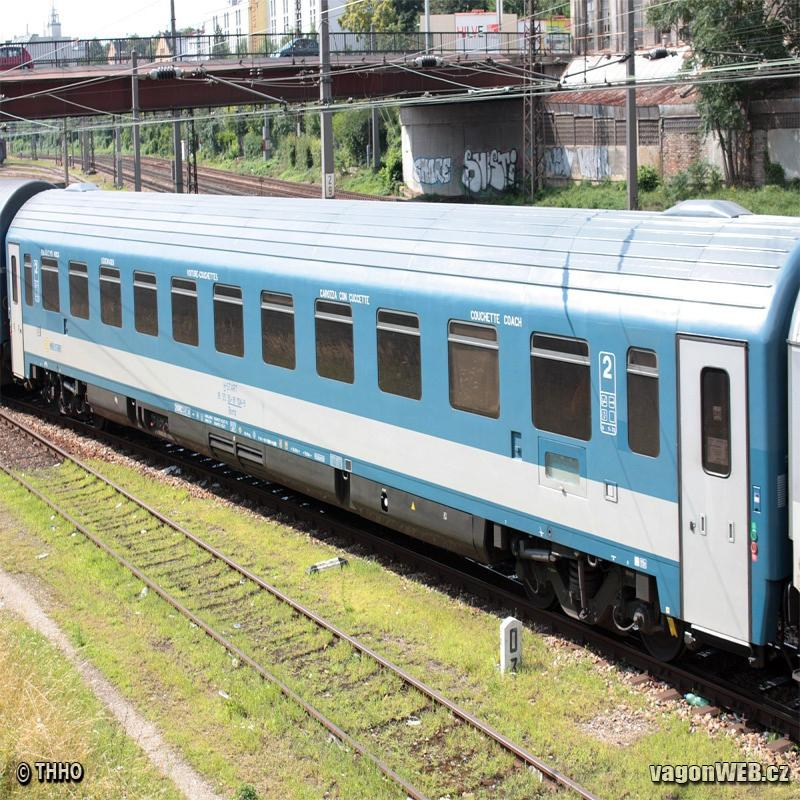train: (8, 181, 800, 707)
